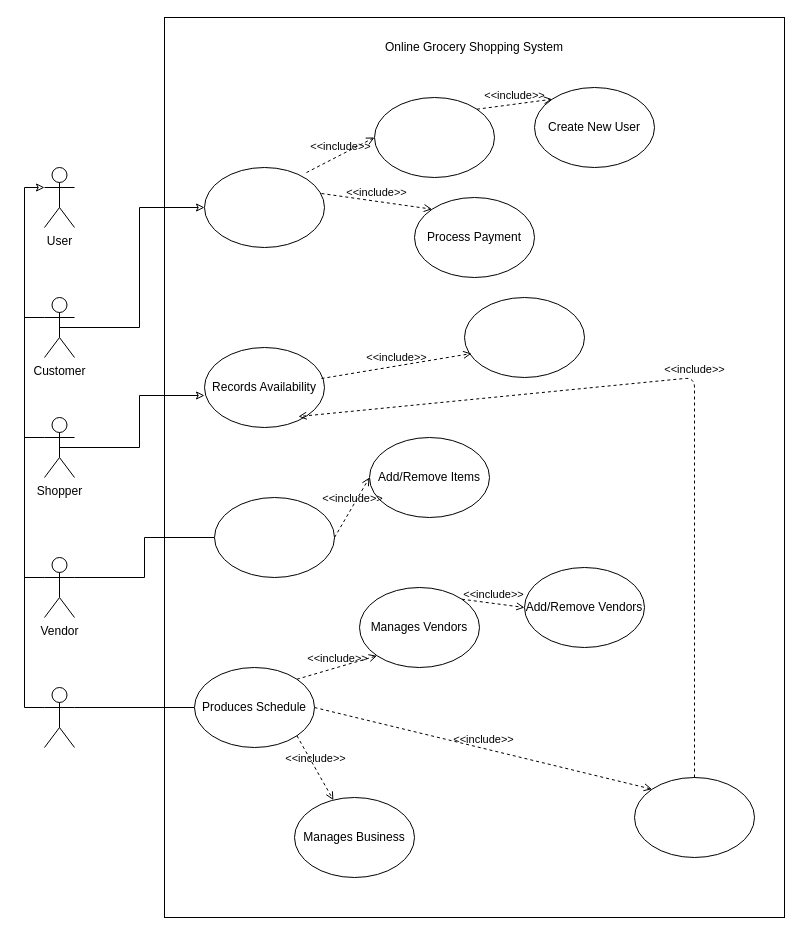
Some shapes in this 802 by 935 pixel diagram are drawn without their labels. Each missing label, with the centre of its shape:
"Create Order" goes at (x=264, y=207).
"Fulfill Order" goes at (x=524, y=337).
"Login" goes at (x=434, y=137).
"Manage Inventory" goes at (x=274, y=537).
"Management" goes at (x=59, y=717).
"Manages Shoppers" goes at (x=694, y=817).
